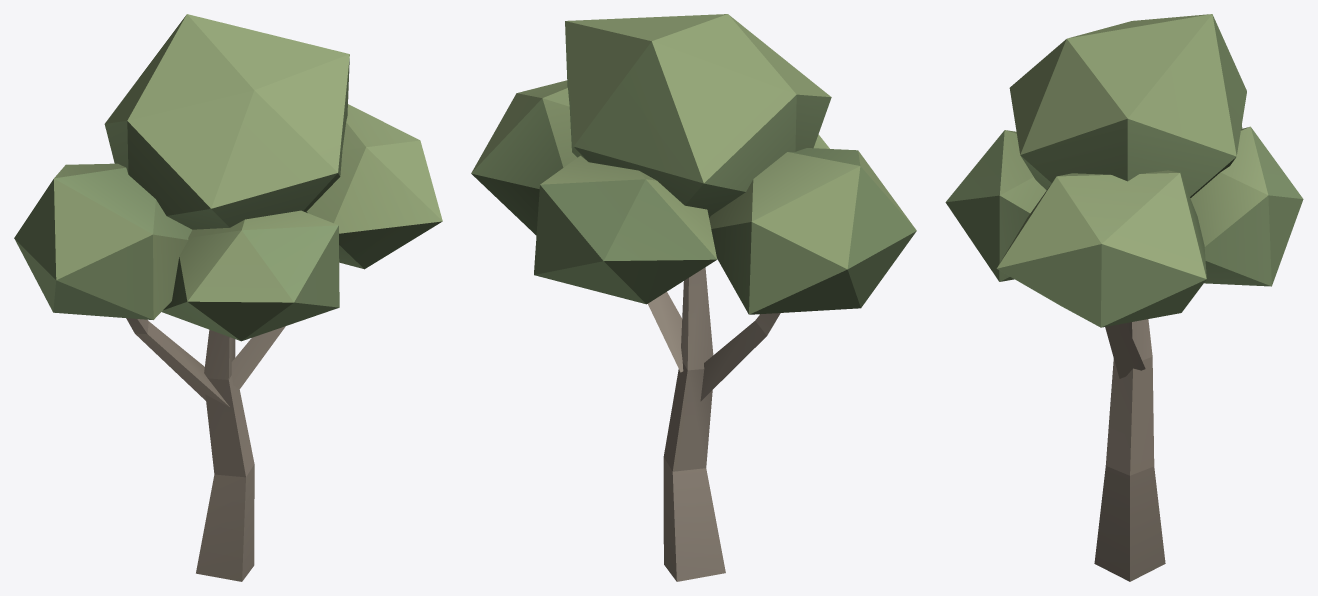
File: lemon.lod1.glb
The picture shows the model from 3 angles, left to right: view 1: azimuth 30°, elevation 25°; view 2: azimuth 150°, elevation 25°; view 3: azimuth 270°, elevation 25°; orthographic projection. The views are drawn at different scales.
Bounding box in the file's own units: 2.81 × 3.78 × 2.21.
